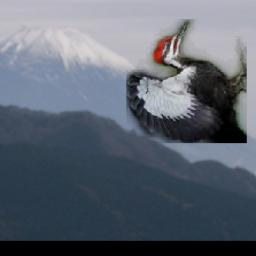Woodpecker: (127, 20, 248, 144)
